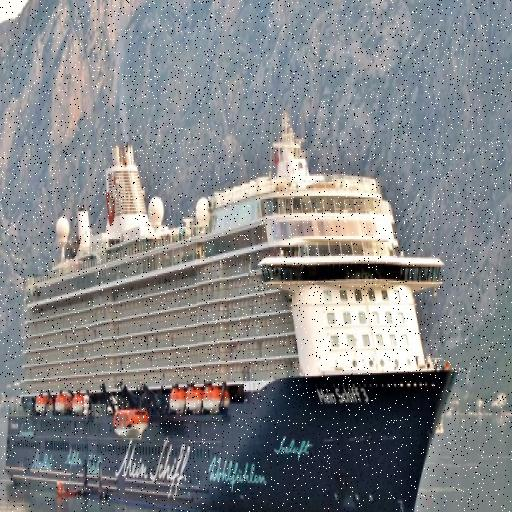cruises: (1, 113, 461, 512)
